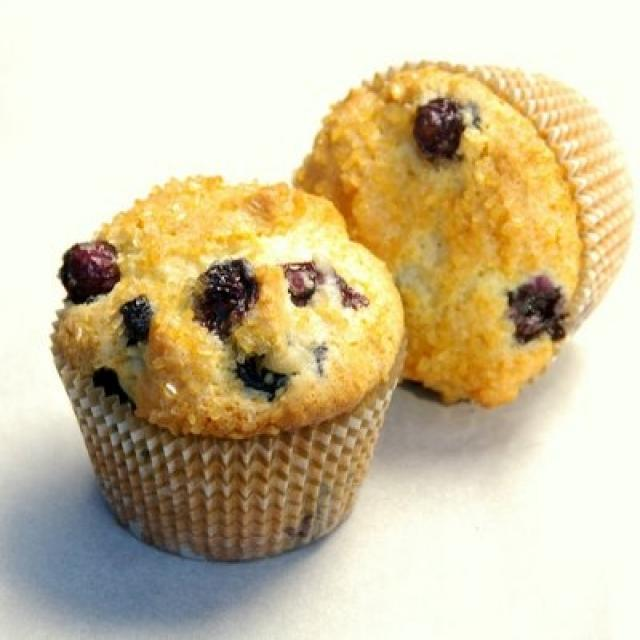炸货点心: (34, 51, 635, 576)
面包点心: (34, 51, 635, 576)
